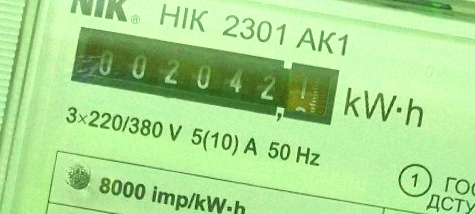0: (127, 49, 149, 82), (192, 59, 214, 92), (94, 45, 116, 77)
1: (293, 70, 312, 103)
2: (160, 55, 182, 87), (257, 70, 278, 102)
4: (224, 62, 247, 97)
screen: (64, 21, 345, 134)
